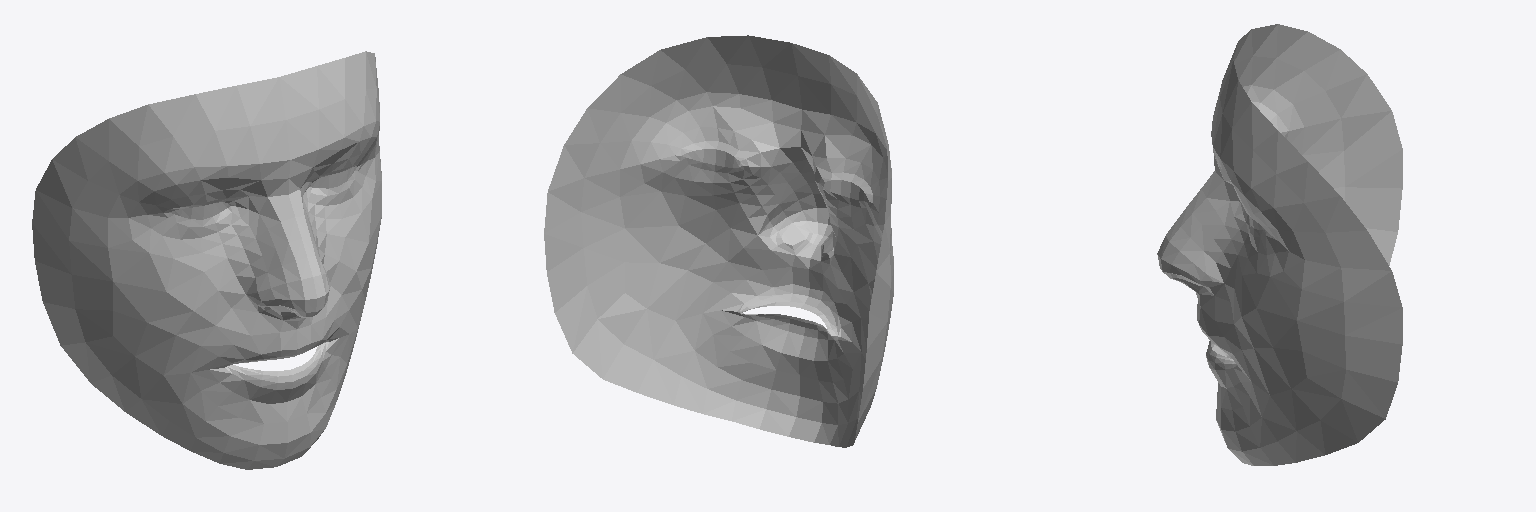
File: canonical_face_model_mouth.obj
The picture shows the model from 3 angles: view 1: azimuth 30°, elevation 25°; view 2: azimuth 150°, elevation 25°; view 3: azimuth 270°, elevation 25°; orthographic projection.
Size of the model in its own units: 15.49 by 17.67 by 10.02.